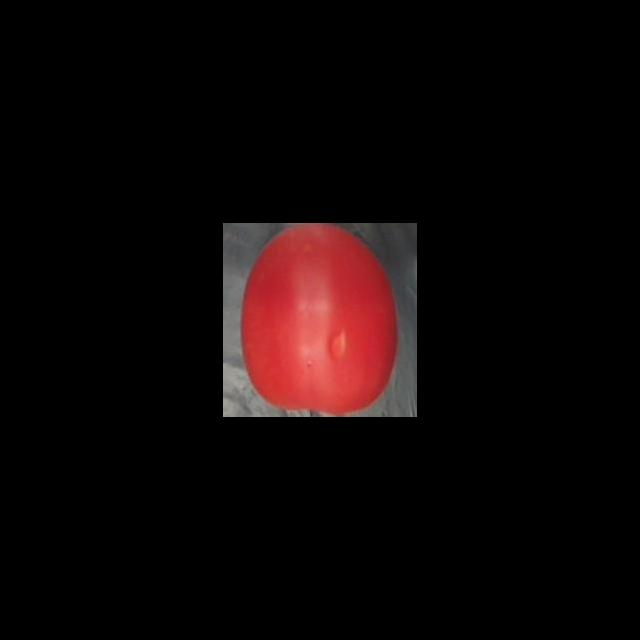tomato: (238, 223, 402, 417)
